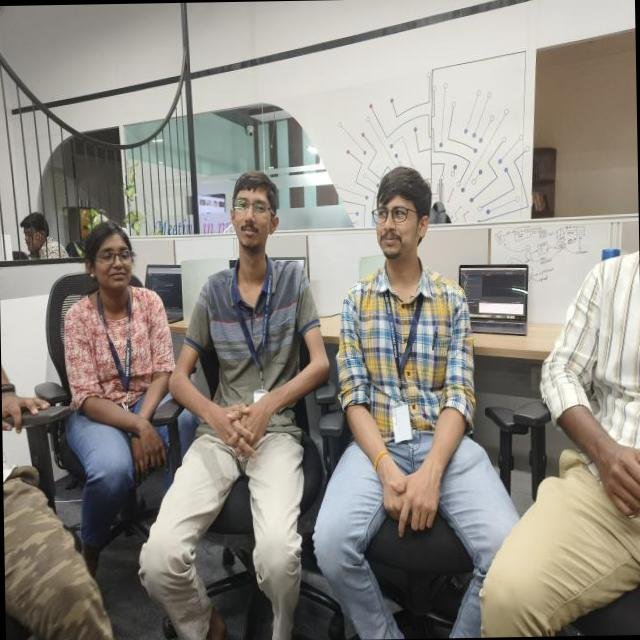id_card: (381, 280, 428, 442), (228, 256, 278, 402), (96, 293, 144, 413)
